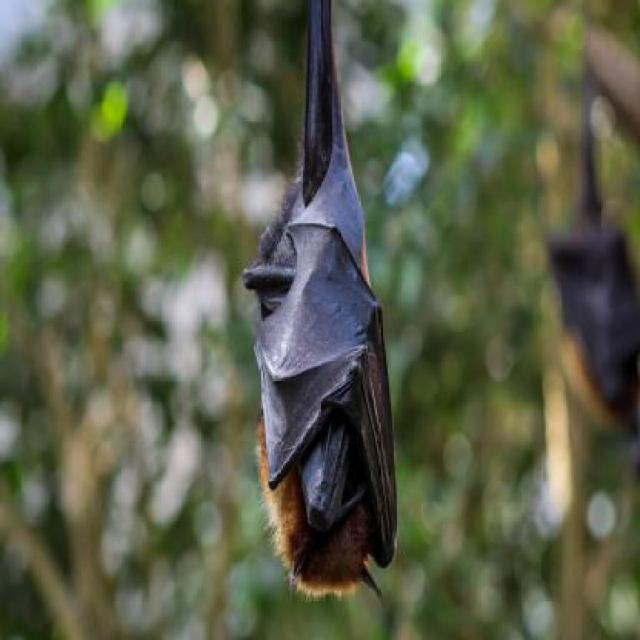Bat: (222, 0, 408, 600), (543, 112, 640, 444)
